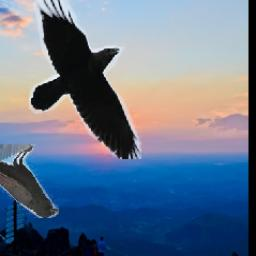Crow: (30, 0, 142, 160), (0, 144, 60, 218)
